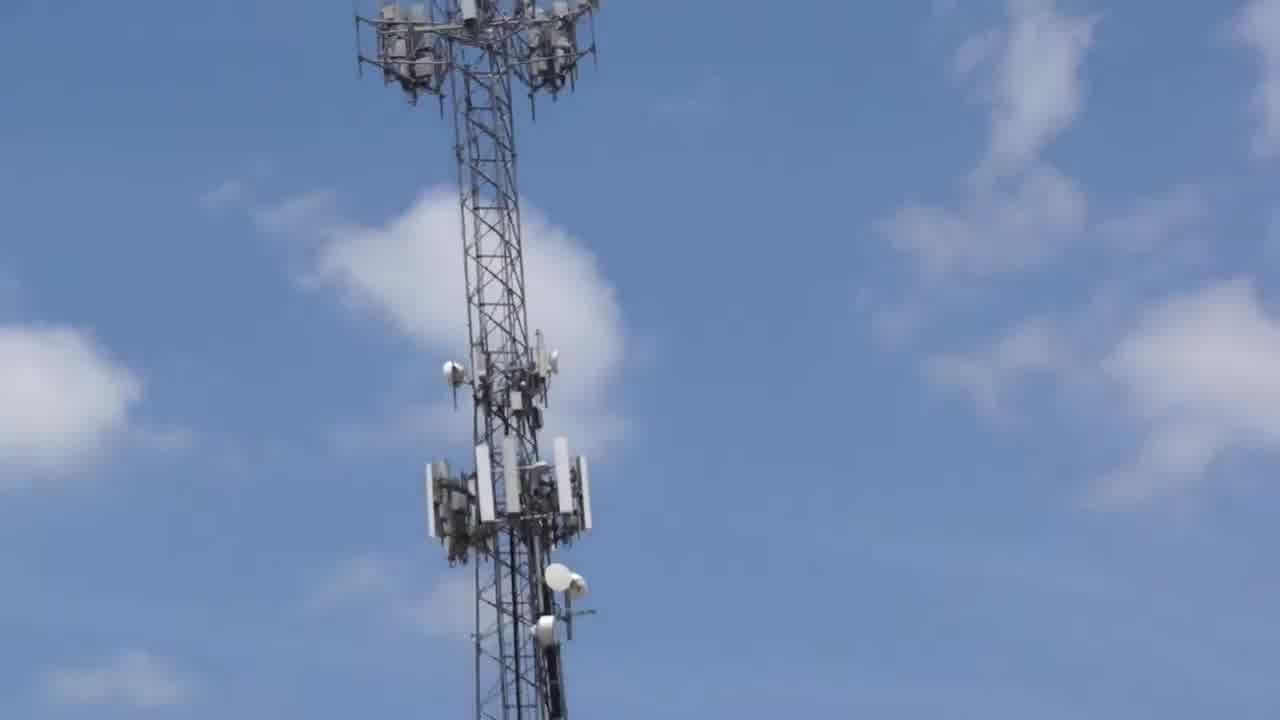Microwave Antenna: (544, 557, 579, 596), (443, 357, 471, 394), (543, 345, 570, 380), (535, 617, 560, 648), (568, 569, 591, 599)
antenna: (409, 442, 446, 559), (539, 423, 574, 544), (486, 414, 520, 529), (460, 429, 494, 538), (561, 430, 589, 541)
